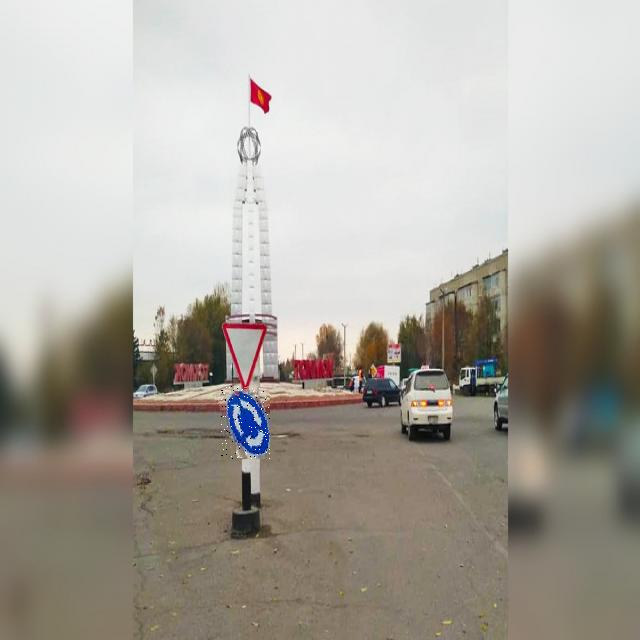roundabout: (221, 386, 270, 459)
